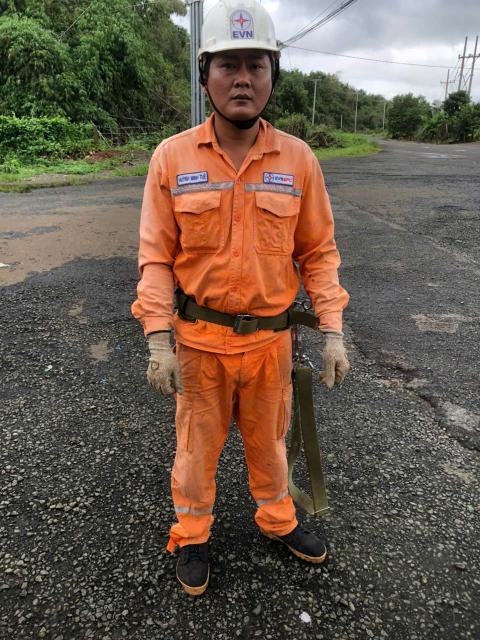gloves: (132, 323, 191, 402), (315, 314, 361, 382)
helmet: (187, 0, 301, 65)
shoes: (249, 527, 335, 571), (175, 524, 213, 593)
